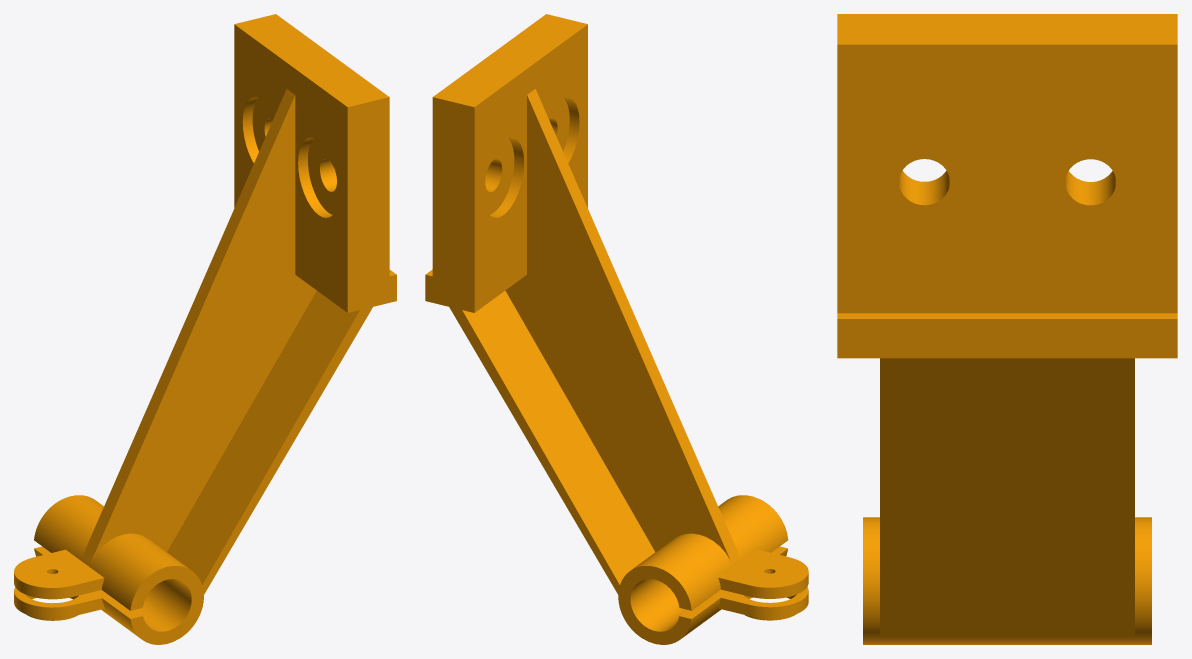
The model's file is chajialeilingjian.FBX.
The picture shows the model from 3 angles, left to right: view 1: azimuth 30°, elevation 25°; view 2: azimuth 150°, elevation 25°; view 3: azimuth 270°, elevation 25°; orthographic projection. The views are drawn at different scales.
Visible parts, largest first — view 1: TRM_SRF (×17); view 2: TRM_SRF (×17); view 3: TRM_SRF (×8).
Boxes of the visible parts, <box> form: TRM_SRF (×17): <box>14,14,396,644</box>; TRM_SRF (×17): <box>425,14,808,644</box>; TRM_SRF (×8): <box>837,14,1177,644</box>.
Bounding box in the file's own units: 25.72 × 38.33 × 15.75.
